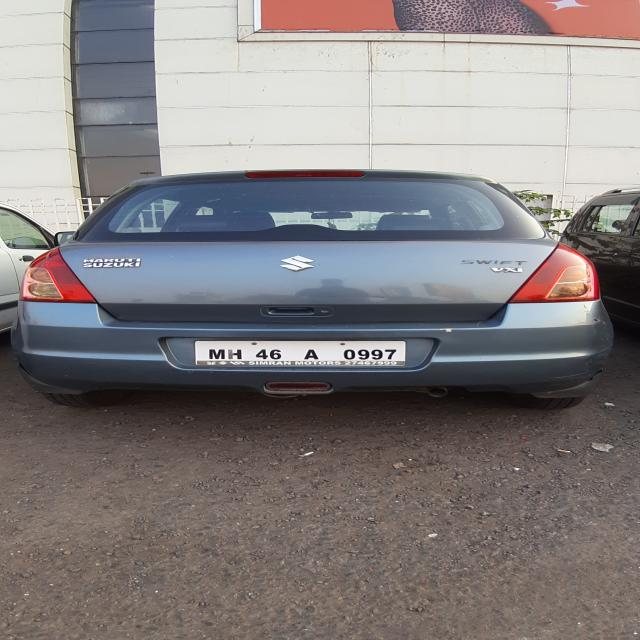Number-Plate: (197, 341, 405, 363)
